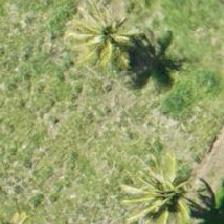coconut_tree: (66, 0, 156, 77), (113, 150, 203, 223)
